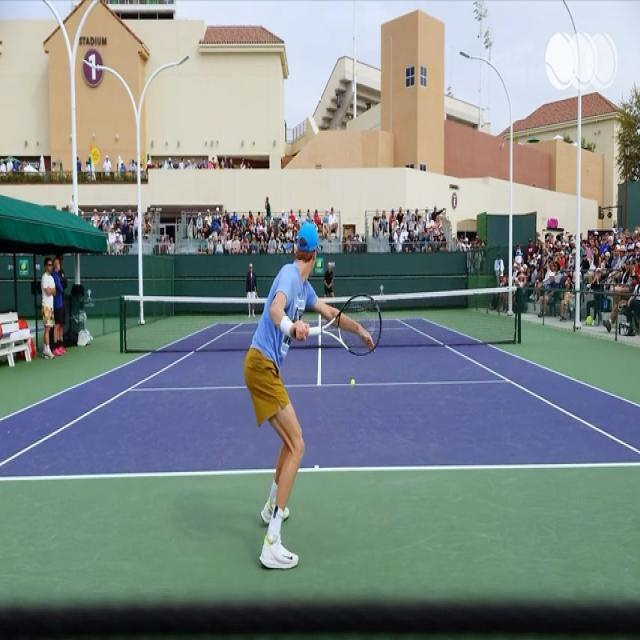forehand-ready: (236, 200, 382, 567)
